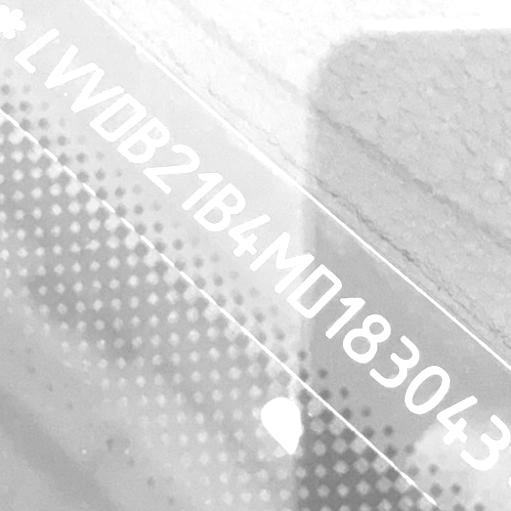letter: (249, 229, 320, 292), (286, 263, 348, 319), (87, 91, 153, 143), (140, 141, 204, 194), (41, 39, 102, 94), (367, 331, 423, 389), (457, 412, 509, 474), (115, 113, 174, 165), (66, 65, 128, 114), (401, 362, 454, 419), (190, 182, 249, 233), (11, 21, 64, 77), (340, 313, 395, 364), (435, 394, 485, 448), (321, 292, 368, 342), (180, 168, 228, 214), (228, 212, 273, 261)
